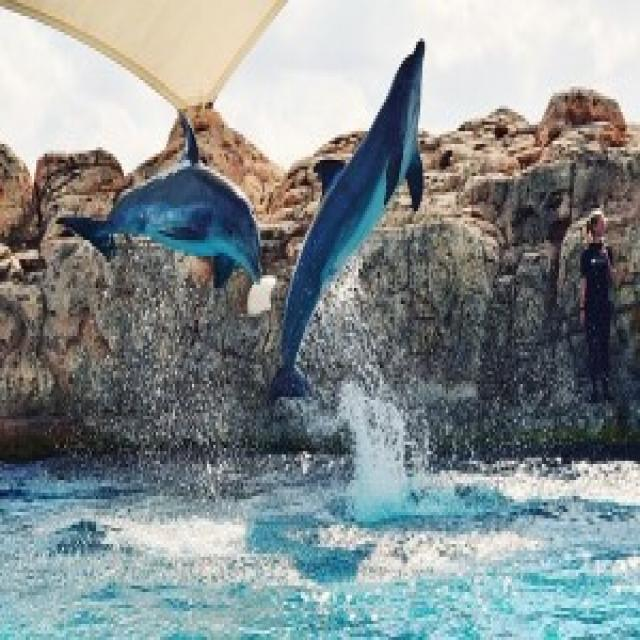Dolphin: (268, 27, 435, 455), (53, 118, 268, 296), (407, 366, 412, 381)
